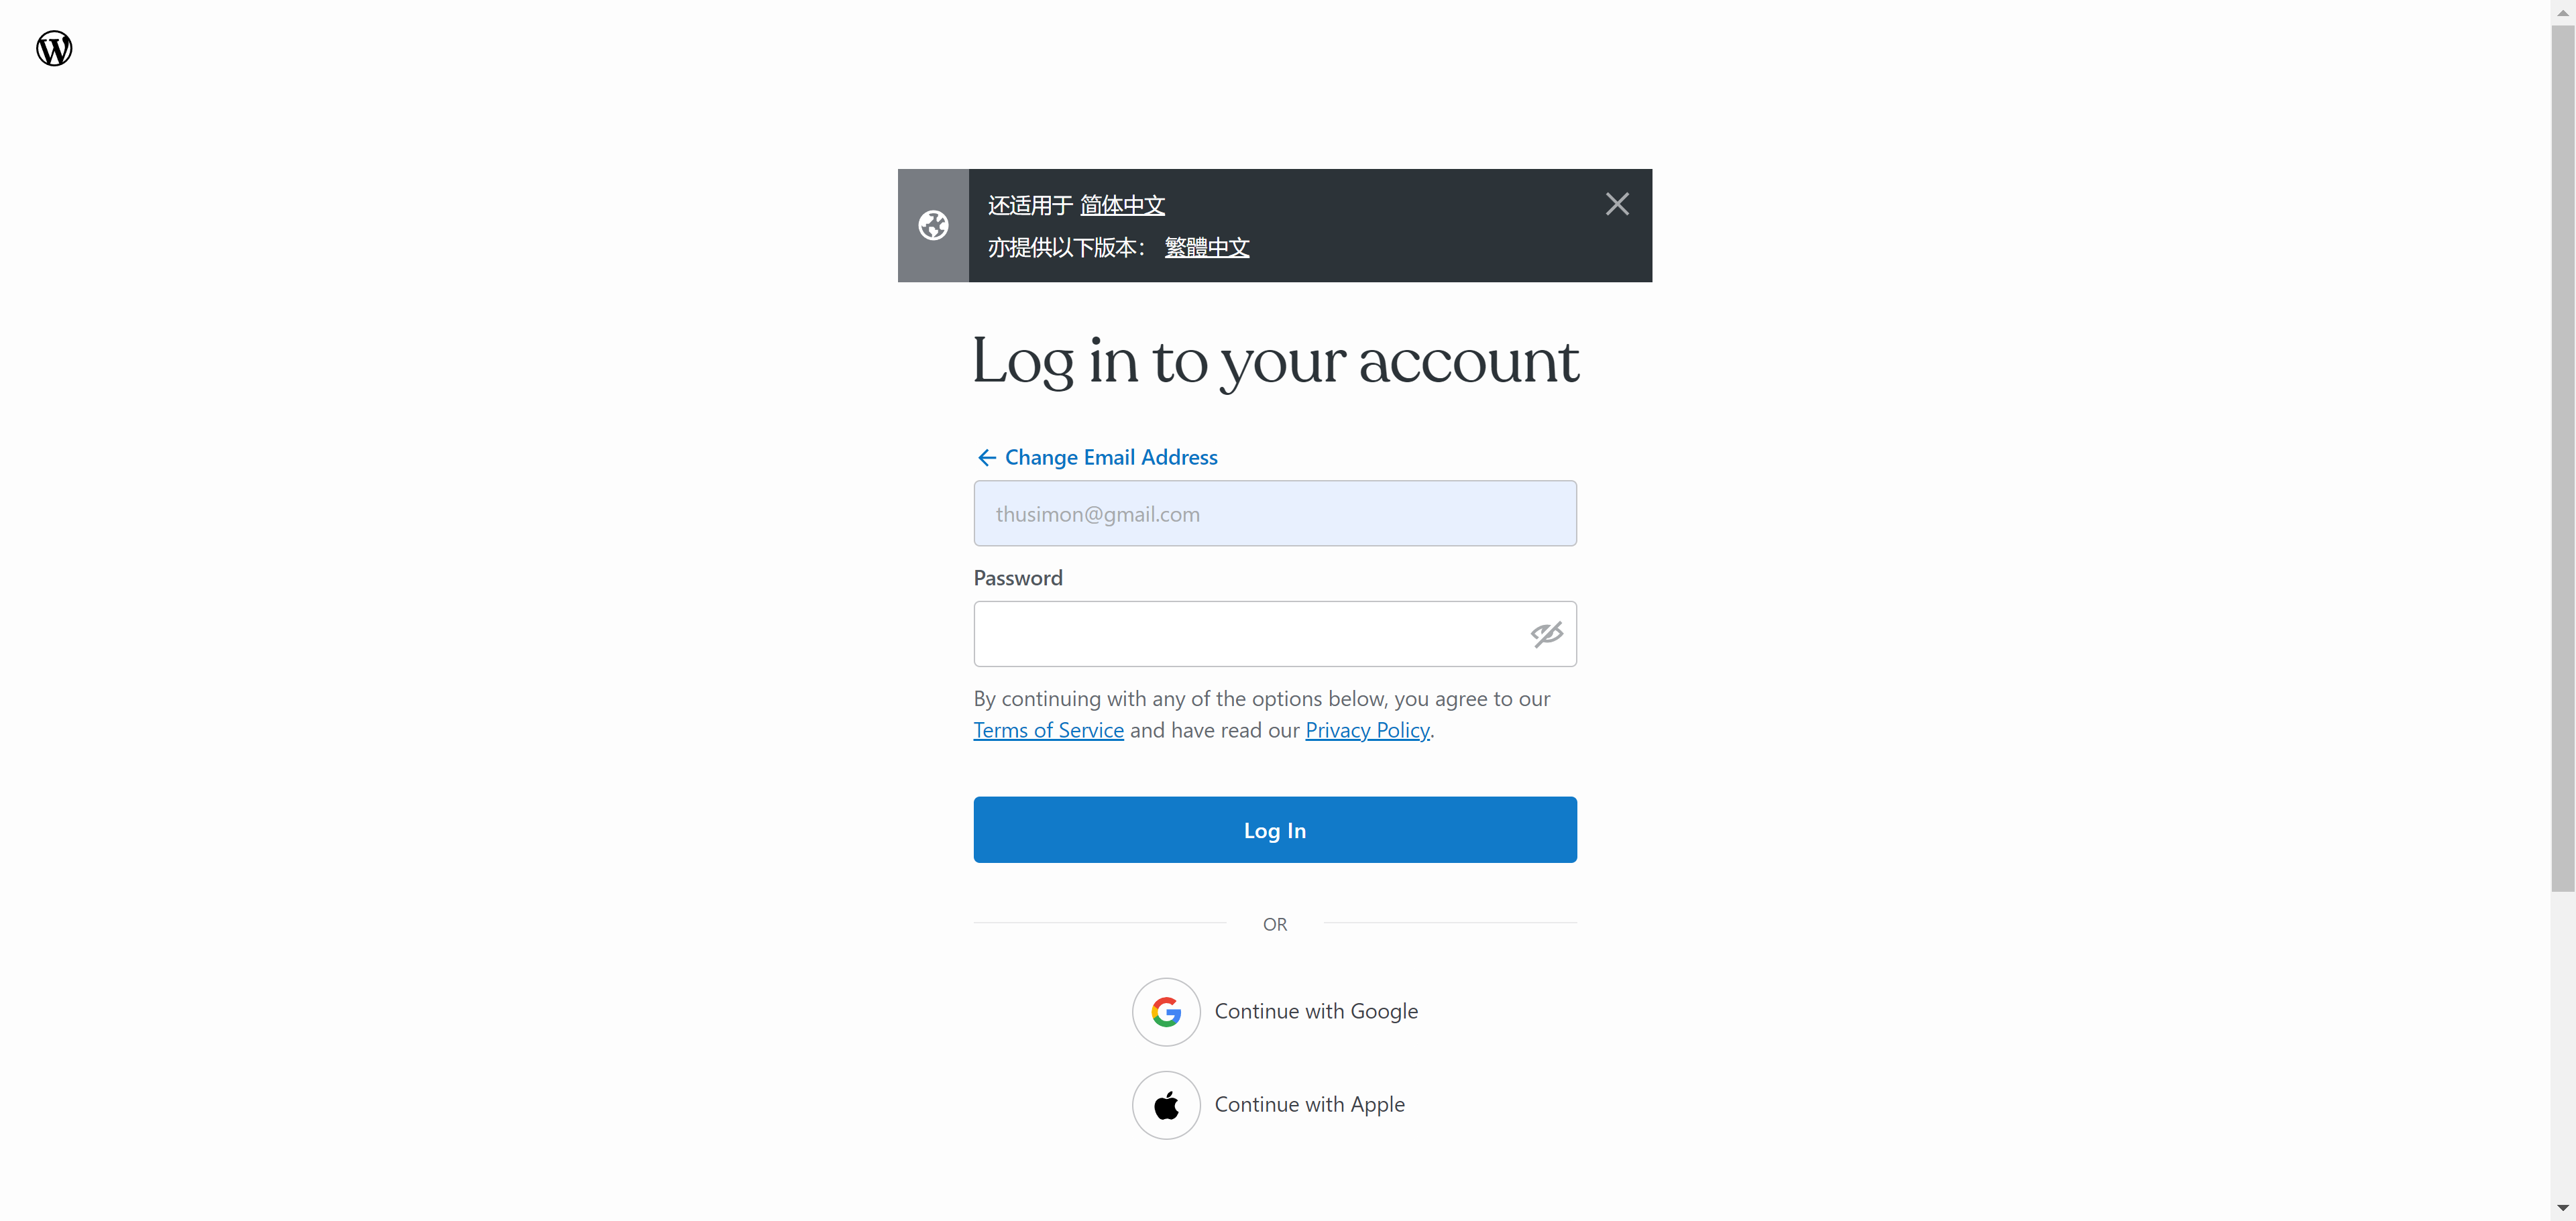login_button: (973, 795, 1577, 864)
login_form: (964, 445, 1589, 871)
